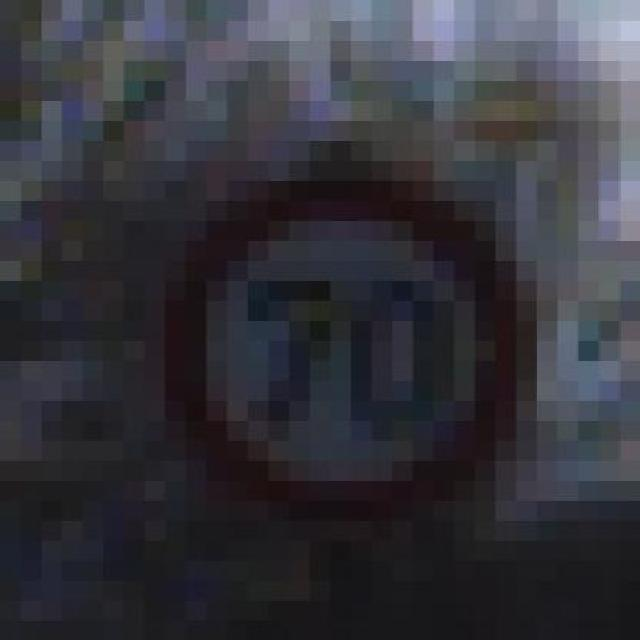forb_speed_over_70: (185, 186, 518, 508)
